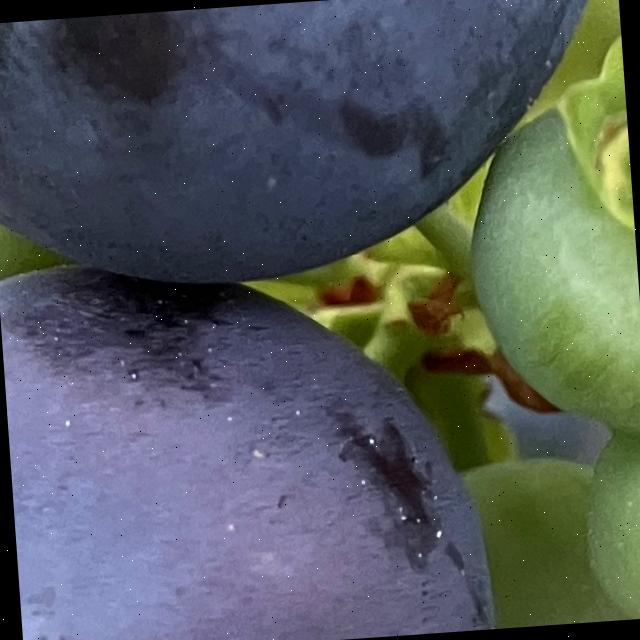Blueberries: (0, 234, 496, 640), (0, 0, 635, 284), (452, 10, 640, 459)
